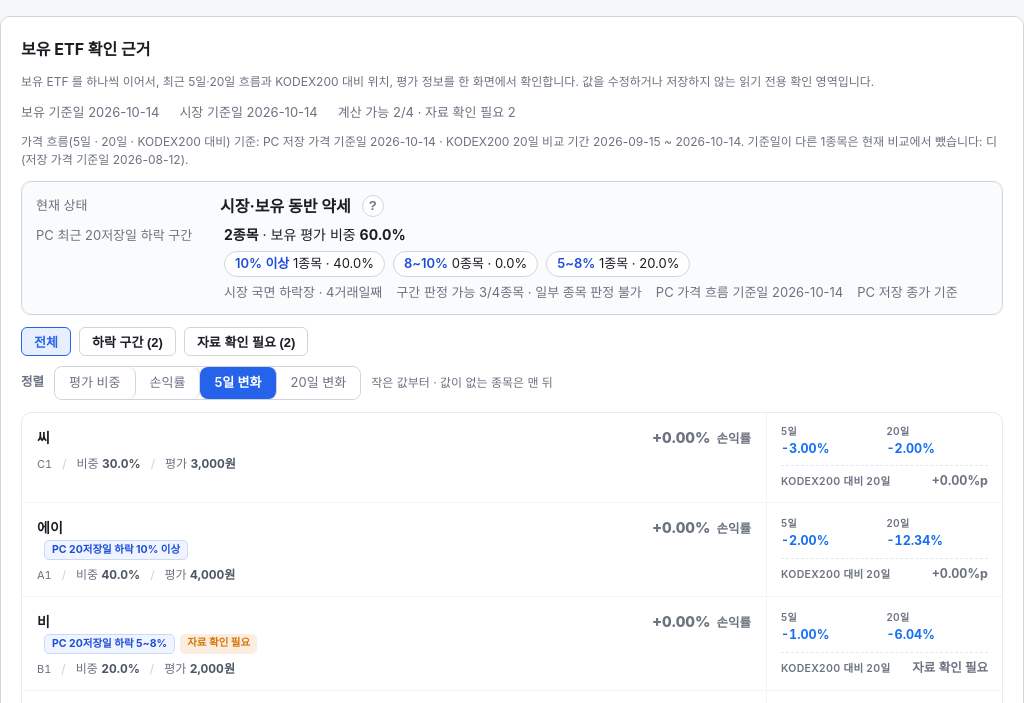
확인 근거 — PC 최근 20저장일 하락 구간 (POC5-13) › 20일 시작일이 다른 구간 종목은 '하락 구간'과 '자료 확인 필요' 두 보기에 함께 · 상세에 비교 기간 사유
This screenshot has width=1024, height=703.
Click the button "하락 구간 (2)".
click(127, 342)  # box 79,327 -> 176,356
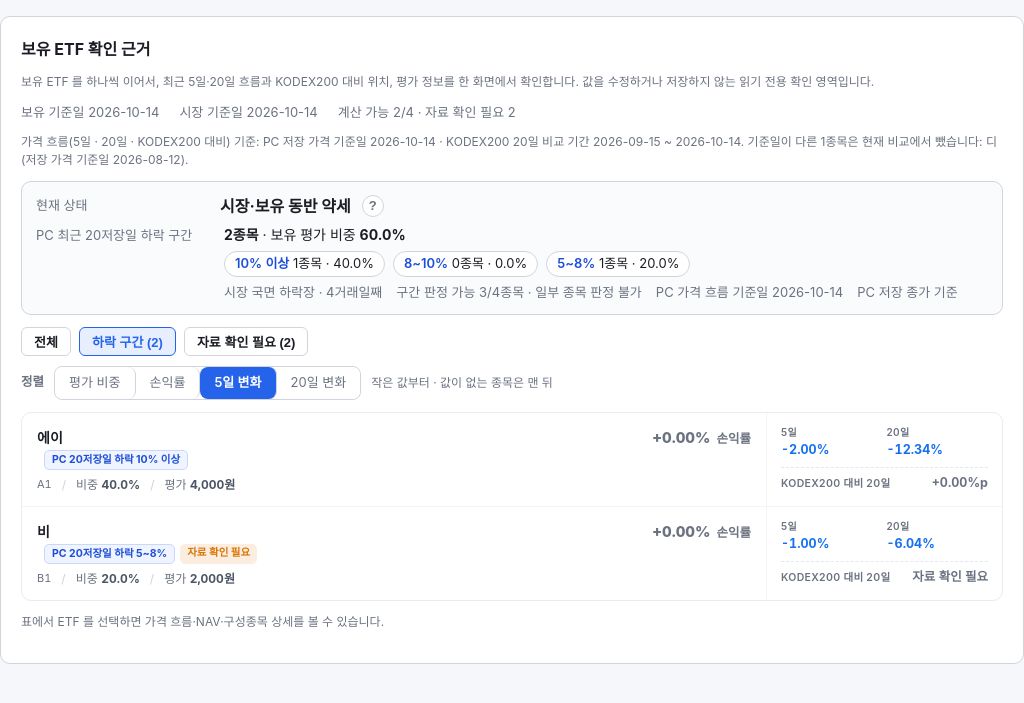
Click the button "자료 확인 필요 (2)".
click(246, 342)  # box 184,327 -> 308,356
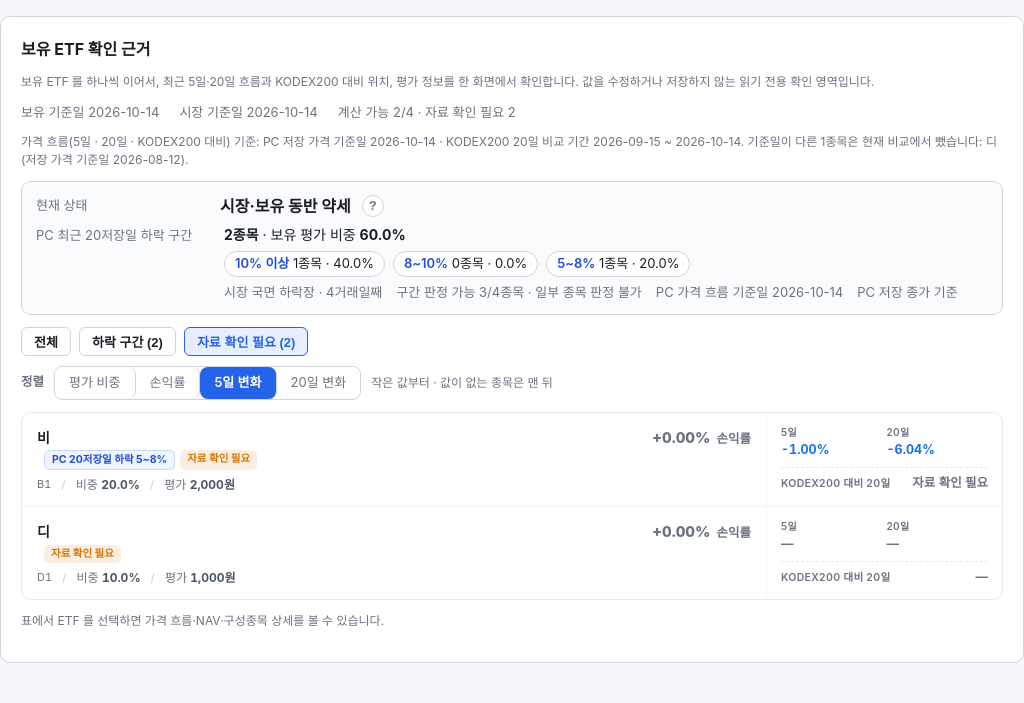
Click the button with aria-label "비 상세 보기".
click(110, 460)  # box 22,412 -> 1002,506
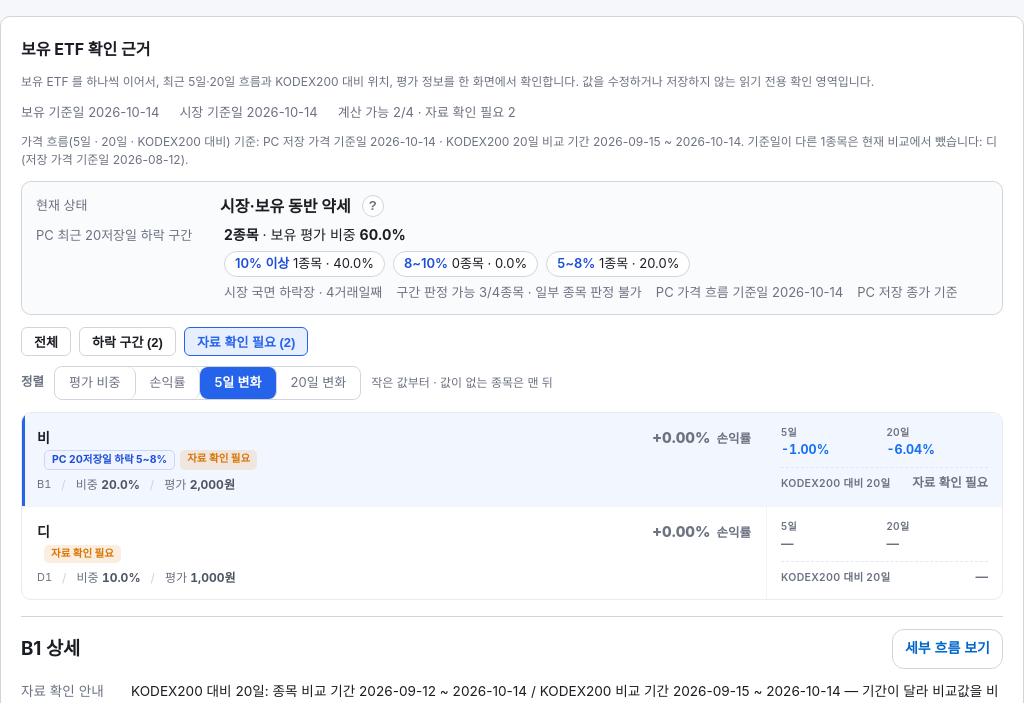
Click the button "세부 흐름 보기".
click(947, 649)  # box 892,629 -> 1003,669
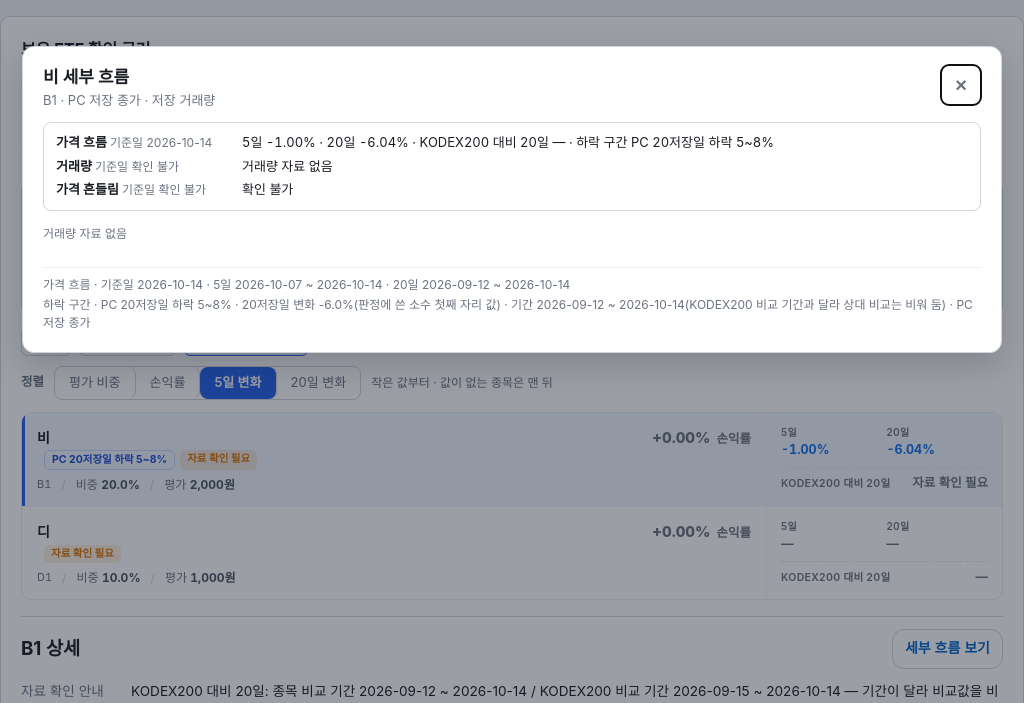
Expected: the text with test id "hre-decline-band" shows "기간 2026-09-12 ~ 2026-10-14(KODEX200 비교 기간과 달라 상대 비교는 비워 둠)", 43,297 -> 973,330
